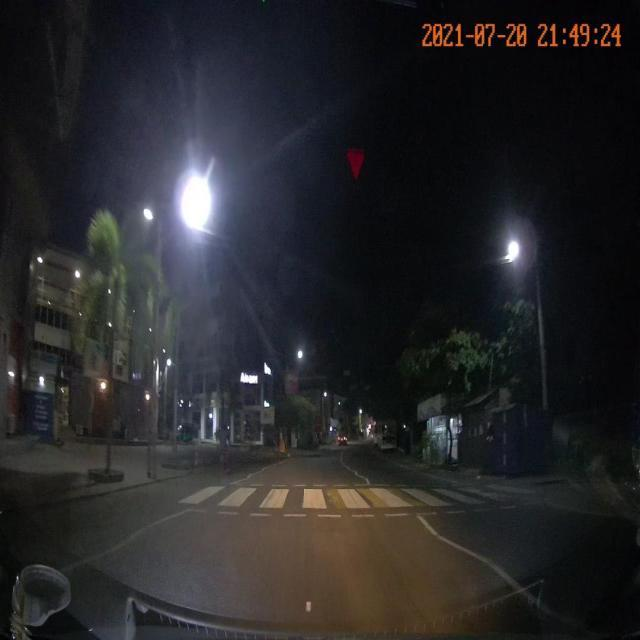Crosswalk: (173, 478, 542, 519)
